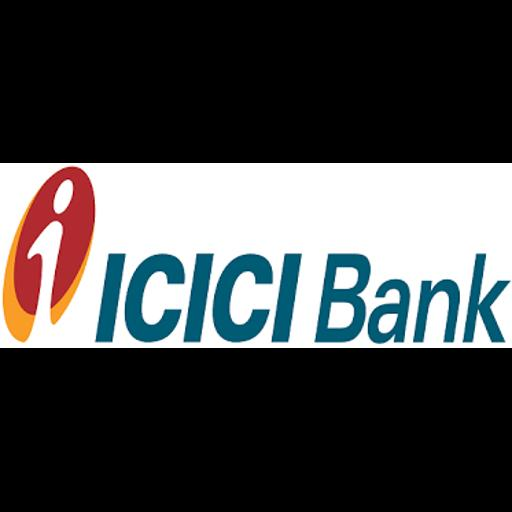ICICI Bank Limited: (0, 163, 512, 348)
